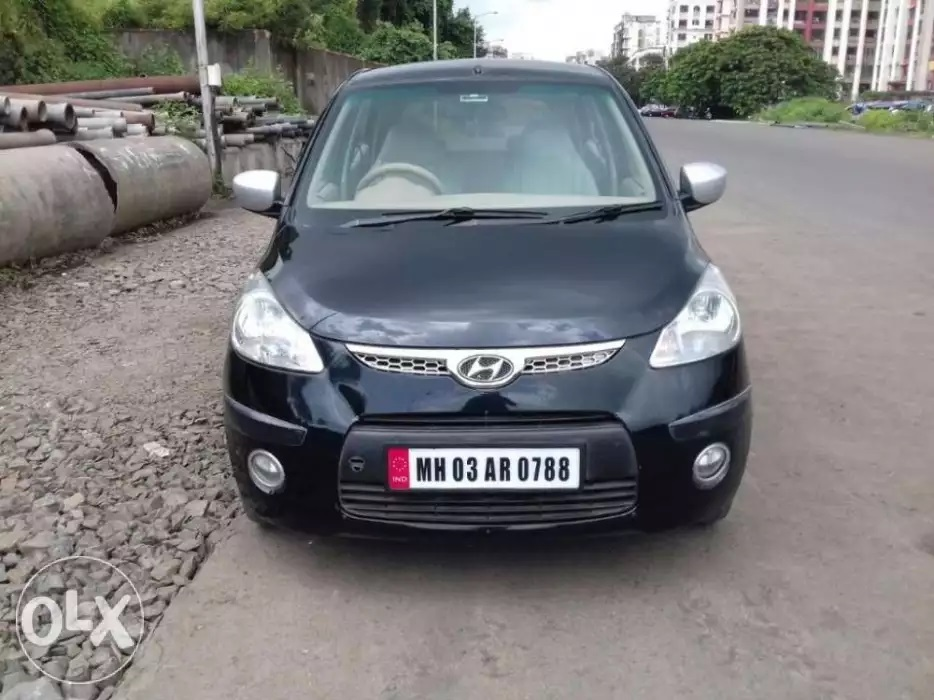licenseplate: (387, 441, 587, 494)
